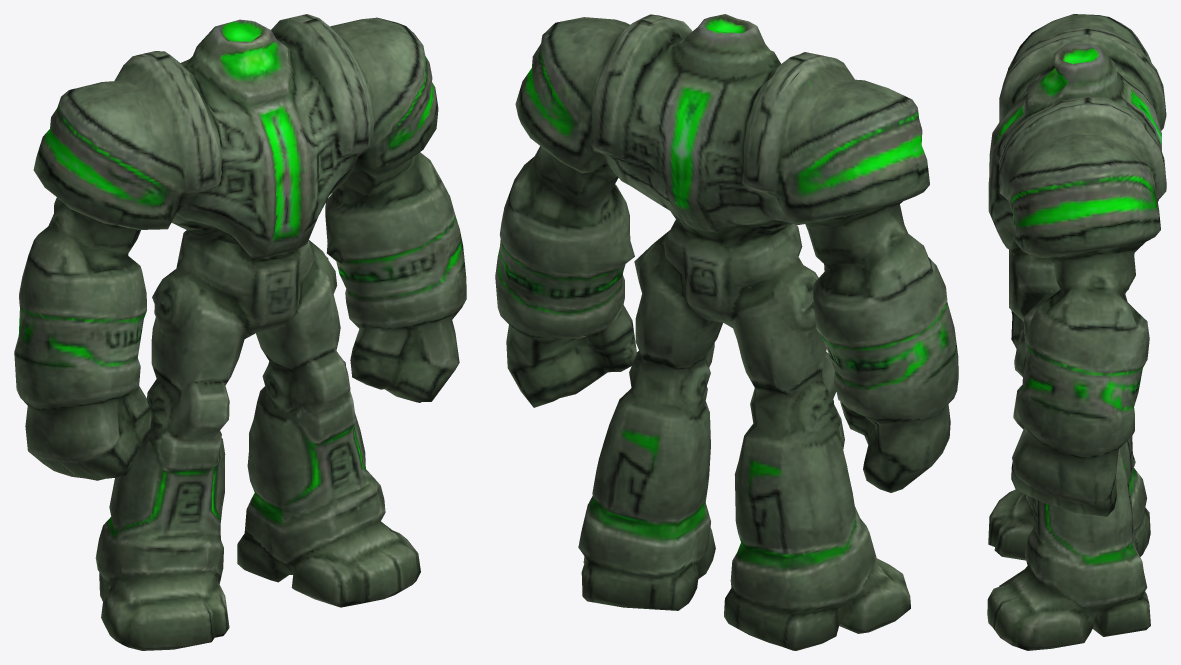
File: vaal_construct_v2.glb
The picture shows the model from 3 angles, left to right: view 1: azimuth 30°, elevation 25°; view 2: azimuth 150°, elevation 25°; view 3: azimuth 270°, elevation 25°; orthographic projection. The views are drawn at different scales.
Visible parts, largest first — view 1: vaal-construct-m0-4000-v1; view 2: vaal-construct-m0-4000-v1; view 3: vaal-construct-m0-4000-v1.
Boxes of the visible parts, x1=… form: vaal-construct-m0-4000-v1: x1=14, y1=14, x2=466, y2=650; vaal-construct-m0-4000-v1: x1=495, y1=14, x2=958, y2=650; vaal-construct-m0-4000-v1: x1=987, y1=14, x2=1166, y2=650.
Bounding box in the file's own units: 0.8069 × 1 × 0.3076.
1 material, 1 textured.
